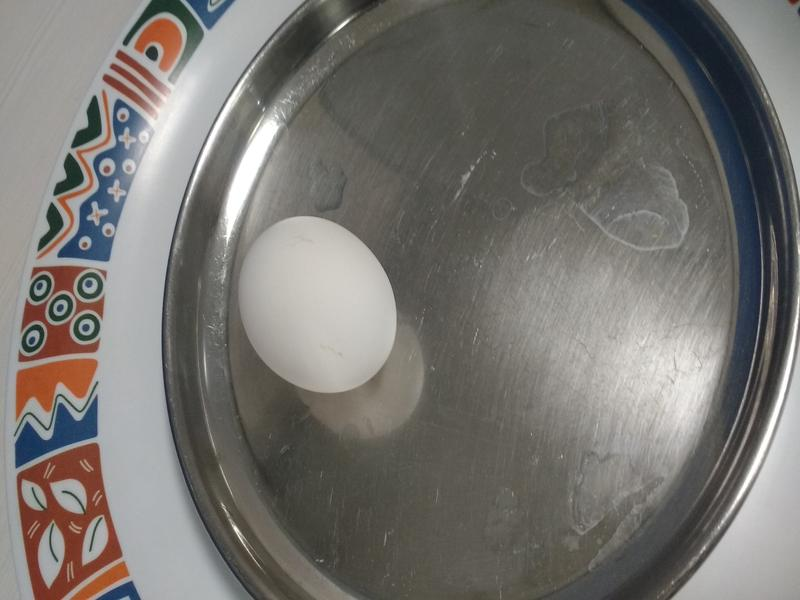egg: (240, 214, 395, 392)
